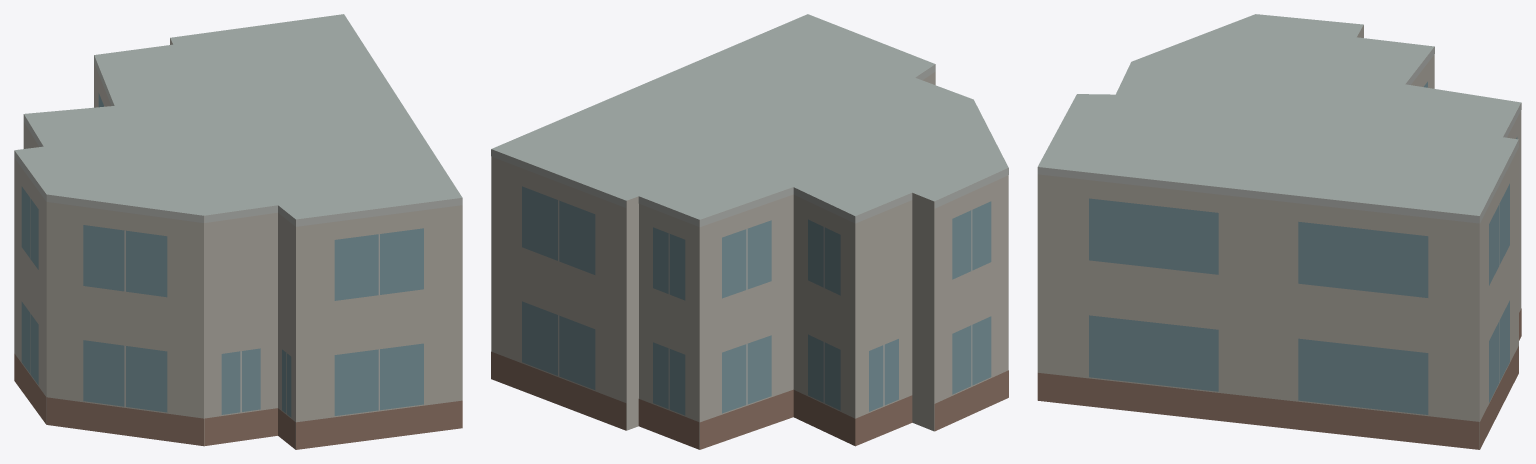
File: survey-upis-32604558.glb
3 views of the same model, side by side, from view 1: azimuth 30°, elevation 25°; view 2: azimuth 150°, elevation 25°; view 3: azimuth 270°, elevation 25° (orthographic).
Visible parts, largest first — view 1: survey-upis-32604558.tmp; view 2: survey-upis-32604558.tmp; view 3: survey-upis-32604558.tmp.
Part boxes in pixels (x1,y1,x2,y2): survey-upis-32604558.tmp: (14,14,462,449); survey-upis-32604558.tmp: (491,14,1008,449); survey-upis-32604558.tmp: (1037,14,1521,449).
Size of the model in its own units: 14.1 by 7.6 by 14.26.
